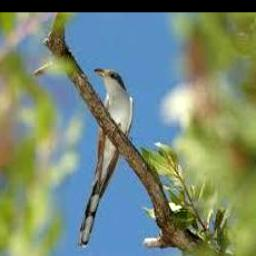Cuckoo: (79, 69, 134, 247)
